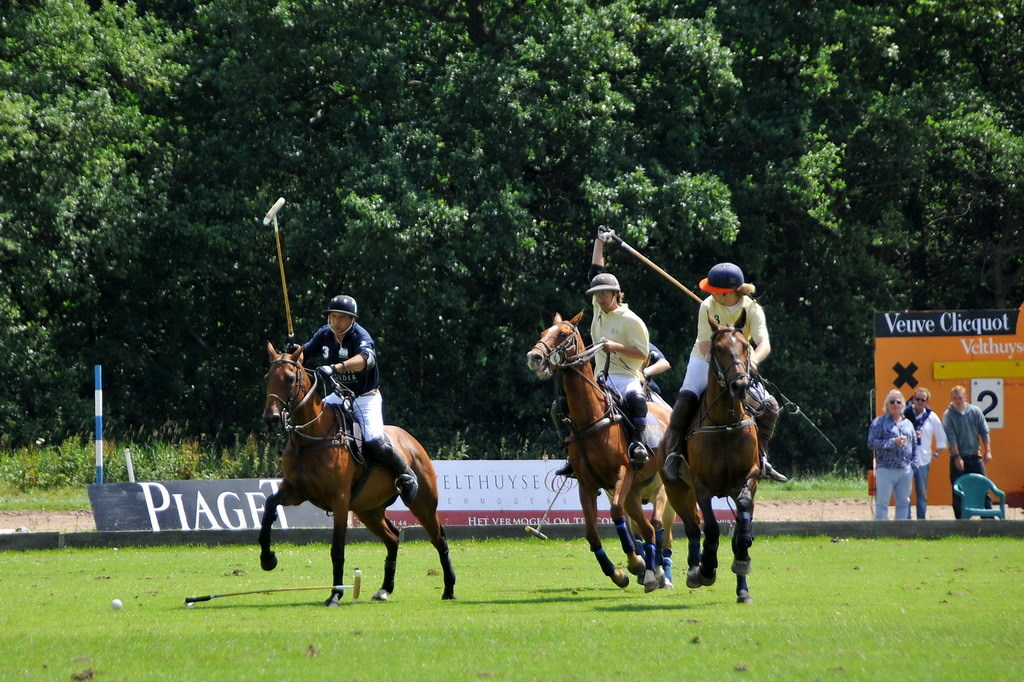Person: (664, 262, 792, 481), (287, 294, 417, 503), (554, 225, 650, 476), (869, 385, 998, 520)
